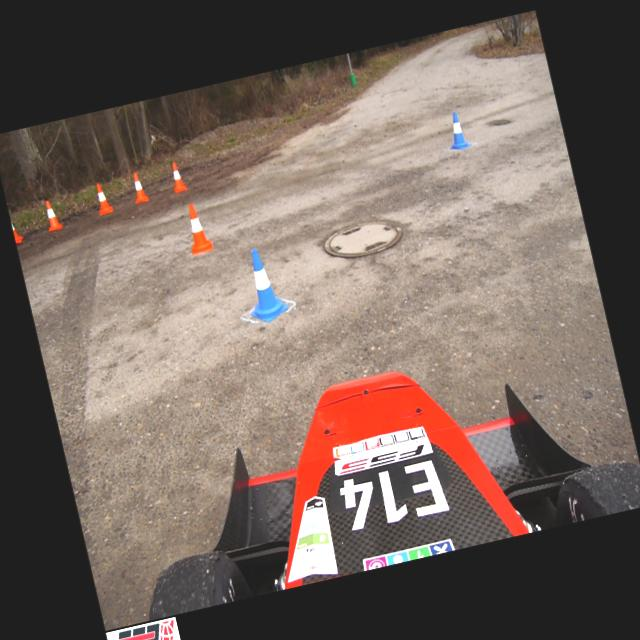blue_cone: (237, 244, 290, 326), (442, 110, 472, 152)
orange_cone: (180, 201, 213, 255), (92, 180, 114, 216), (128, 169, 150, 204), (166, 160, 188, 193), (41, 197, 62, 231), (10, 218, 24, 243)
